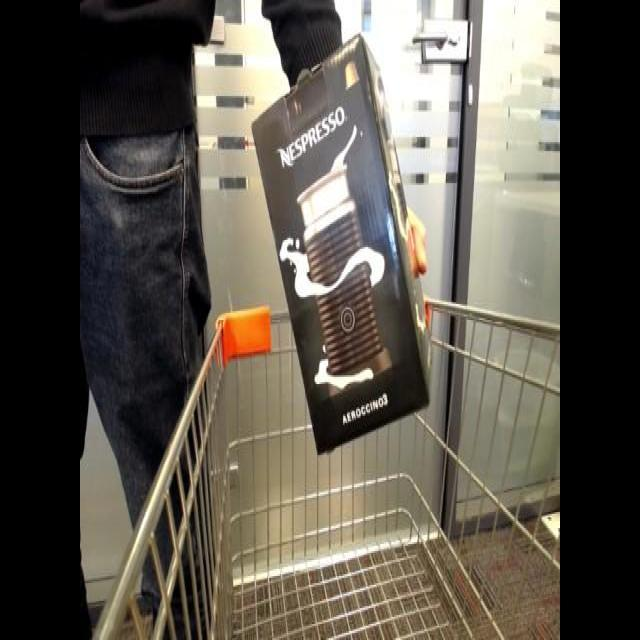Nespresso: (244, 28, 444, 458)
